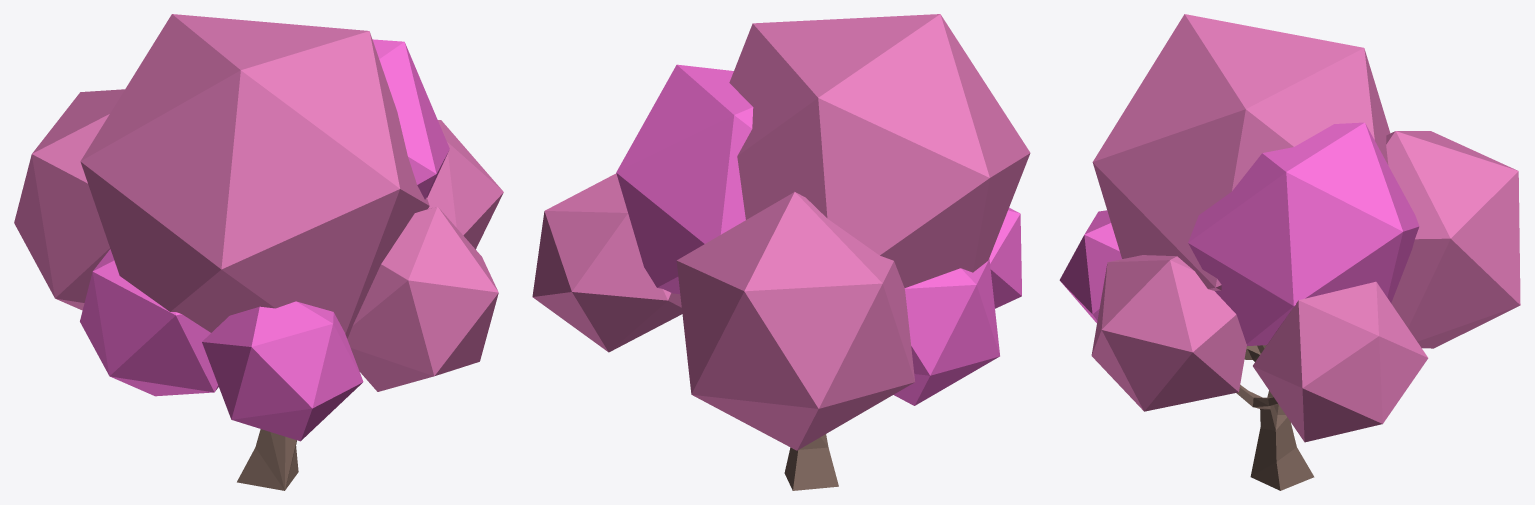
The model's file is cherry_tree_1.fbx.
3 renders of one model, left to right at view 1: azimuth 30°, elevation 25°; view 2: azimuth 150°, elevation 25°; view 3: azimuth 270°, elevation 25°, orthographic. The views are drawn at different scales.
Parts seen in each view (by area): view 1: Icosphere.002, Icosphere.004, Icosphere.006, Icosphere.003, Icosphere.005, Icosphere.001, Icosphere, wood; view 2: Icosphere.002, Icosphere.003, Icosphere.001, Icosphere, Icosphere.005, Icosphere.006, wood; view 3: Icosphere.002, Icosphere.001, Icosphere.003, Icosphere, Icosphere.004, wood, Icosphere.006.
Part boxes in pixels (x1,y1,x2,y2): Icosphere.002: [80, 14, 429, 338]; Icosphere.004: [347, 206, 498, 391]; Icosphere.006: [202, 301, 363, 441]; Icosphere.003: [14, 89, 124, 310]; Icosphere.005: [80, 249, 218, 396]; Icosphere.001: [372, 39, 449, 199]; Icosphere: [427, 120, 503, 249]; wood: [237, 429, 298, 490]; Icosphere.002: [729, 14, 1030, 287]; Icosphere.003: [676, 192, 914, 450]; Icosphere.001: [616, 64, 753, 294]; Icosphere: [532, 173, 682, 352]; Icosphere.005: [893, 259, 999, 405]; Icosphere.006: [989, 207, 1021, 308]; wood: [784, 434, 838, 490]; Icosphere.002: [1092, 14, 1390, 290]; Icosphere.001: [1188, 122, 1419, 345]; Icosphere.003: [1386, 131, 1520, 348]; Icosphere: [1253, 281, 1428, 442]; Icosphere.004: [1091, 255, 1246, 411]; wood: [1236, 345, 1314, 490]; Icosphere.006: [1059, 210, 1121, 322].
Bounding box in the file's own units: 515 × 512 × 528.
